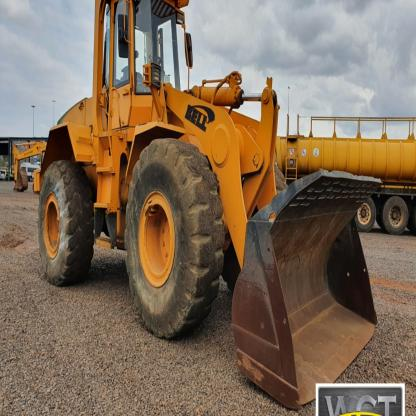bull_dozer/loader/grader: (27, 4, 382, 410)
